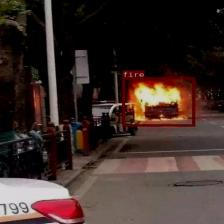fire: (122, 77, 194, 126)
